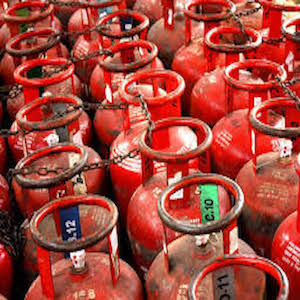combustible: (10, 158, 139, 280), (138, 141, 257, 263), (107, 79, 214, 152), (207, 57, 282, 161)
